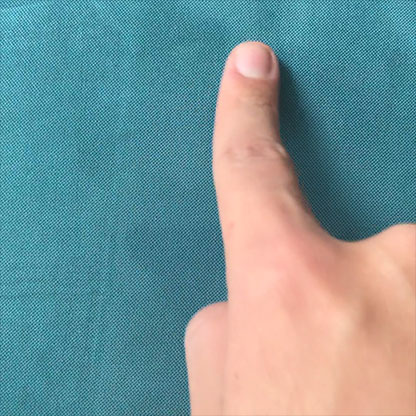fingertip: (220, 29, 291, 93)
